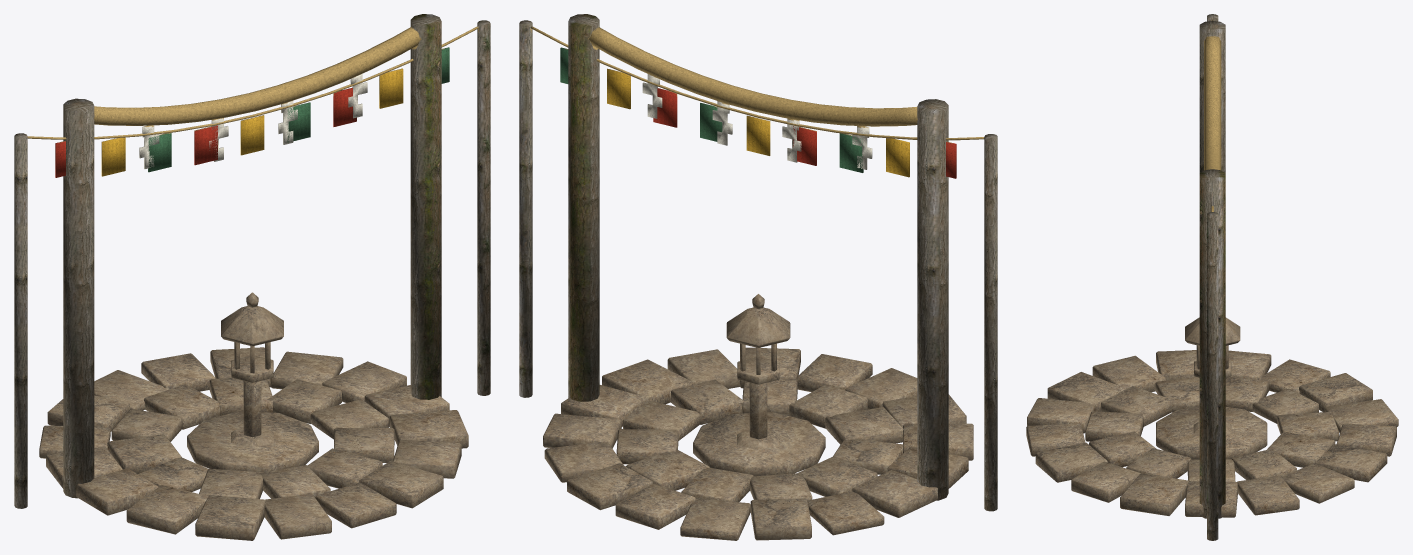
File: WoodlandShrine.gltf
The picture shows the model from 3 angles, left to right: view 1: azimuth 30°, elevation 25°; view 2: azimuth 150°, elevation 25°; view 3: azimuth 270°, elevation 25°; orthographic projection. The views are drawn at different scales.
Visible parts, largest first — view 1: paving, sacredRope, prayerFlags, lantern; view 2: paving, sacredRope, prayerFlags, lantern; view 3: paving, sacredRope, prayerFlags, lantern.
Part boxes in pixels (bbox=[...]): paving: bbox=[39, 347, 468, 540]; sacredRope: bbox=[63, 14, 441, 498]; prayerFlags: bbox=[14, 20, 490, 508]; lantern: bbox=[221, 292, 283, 447]; paving: bbox=[543, 347, 973, 540]; sacredRope: bbox=[568, 14, 948, 500]; prayerFlags: bbox=[519, 20, 997, 511]; lantern: bbox=[726, 294, 790, 449]; paving: bbox=[1026, 350, 1398, 517]; sacredRope: bbox=[1199, 20, 1225, 518]; prayerFlags: bbox=[1207, 14, 1218, 540]; lantern: bbox=[1185, 317, 1240, 434].
Bounding box in the file's own units: 5.8 × 4.52 × 4.5.
1 material, 1 textured.
